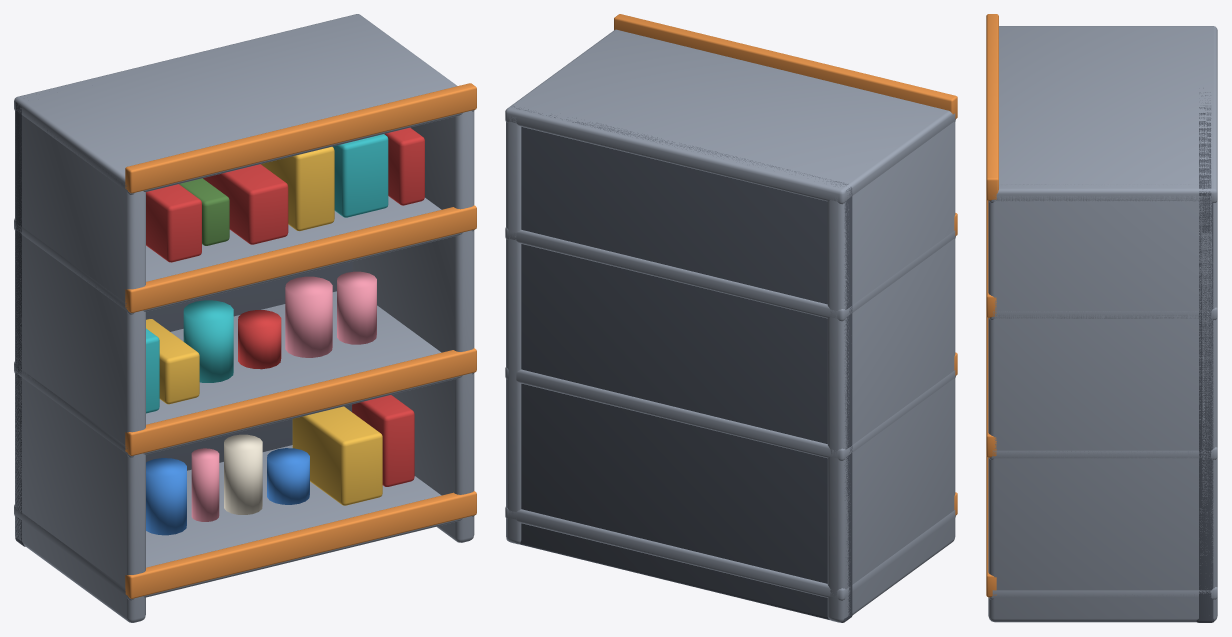
The model's file is shelf.glb.
3 renders of one model, left to right at view 1: azimuth 30°, elevation 25°; view 2: azimuth 150°, elevation 25°; view 3: azimuth 270°, elevation 25°, orthographic. The views are drawn at different scales.
Parts seen in each view (by area): view 1: side.008, plank.029, side.009, plank.027, plank.026, lip.011, lip.009, lip.008, lip.010, back.004, plank.028, pkg.024 (+17 smaller); view 2: back.004, side.008, plank.029, side.009, lip.011, plank.028, plank.026, plank.027; view 3: side.009, plank.029, back.004, lip.011, plank.027, plank.026, plank.028, lip.009, lip.008, lip.010.
Boxes of the visible parts, left/top/right/bottom form: side.008: left=15, top=111, right=145, bottom=622; plank.029: left=14, top=14, right=474, bottom=194; side.009: left=352, top=111, right=474, bottom=542; plank.027: left=14, top=291, right=474, bottom=457; plank.026: left=14, top=445, right=474, bottom=600; lip.011: left=125, top=83, right=476, bottom=193; lip.009: left=125, top=348, right=476, bottom=455; lip.008: left=125, top=491, right=476, bottom=598; lip.010: left=125, top=205, right=476, bottom=312; back.004: left=15, top=102, right=352, bottom=546; plank.028: left=14, top=196, right=474, bottom=314; pkg.024: left=292, top=406, right=382, bottom=505; back.004: left=506, top=106, right=852, bottom=622; side.008: left=827, top=121, right=955, bottom=622; plank.029: left=505, top=29, right=955, bottom=204; side.009: left=506, top=116, right=521, bottom=544; lip.011: left=614, top=14, right=957, bottom=118; plank.028: left=505, top=227, right=955, bottom=321; plank.026: left=505, top=506, right=955, bottom=600; plank.027: left=505, top=367, right=955, bottom=460; side.009: left=988, top=184, right=1217, bottom=622; plank.029: left=989, top=26, right=1217, bottom=202; back.004: left=1196, top=88, right=1214, bottom=622; lip.011: left=986, top=14, right=998, bottom=200; plank.027: left=989, top=447, right=1217, bottom=459; plank.026: left=989, top=587, right=1217, bottom=599; plank.028: left=989, top=307, right=1217, bottom=319; lip.009: left=986, top=316, right=996, bottom=457; lip.008: left=986, top=456, right=996, bottom=597; lip.010: left=986, top=199, right=996, bottom=317.
Size of the model in its own units: 0.94 by 1.18 by 0.555.
